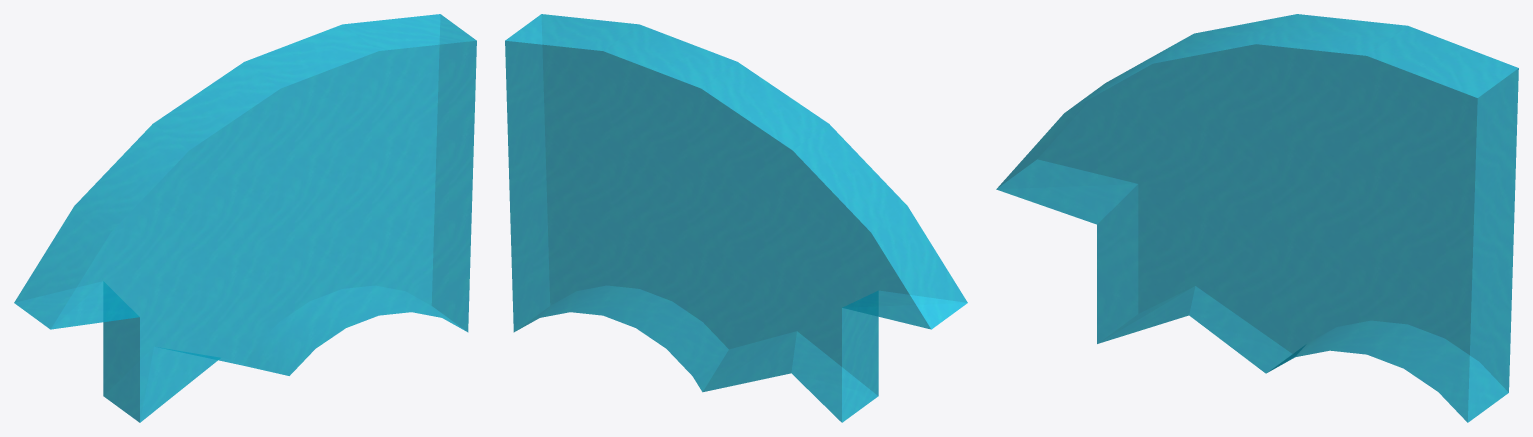
The model's file is GlassPart_05.fbx.
3 renders of one model, left to right at view 1: azimuth 30°, elevation 25°; view 2: azimuth 150°, elevation 25°; view 3: azimuth 330°, elevation 25°, orthographic. The views are drawn at different scales.
Visible parts, largest first — view 1: Model; view 2: Model; view 3: Model.
Boxes of the visible parts, x1,y1,x2,y2 form: Model: (14, 14, 476, 422); Model: (505, 14, 967, 422); Model: (996, 14, 1518, 422).
Size of the model in its own units: 3.37 by 2.4 by 0.5.
